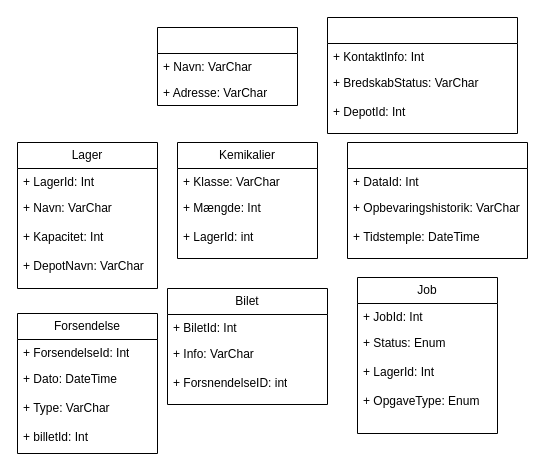
Image size: 545x474. Some labels were removed from this diagram. The shapes that lost their labels are listed below. From the top down, each one's box as (x1, y1, x2, y2) in pixels, then its label:
(156, 26, 298, 106): Depot
(326, 16, 518, 134): Brandvæsen
(346, 142, 528, 258): Logdata
